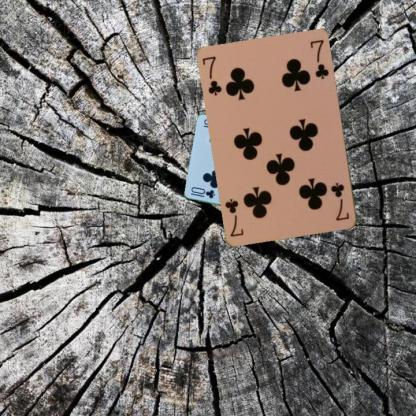10c: (188, 184, 216, 200)
7c: (200, 53, 223, 98), (328, 180, 351, 223)
